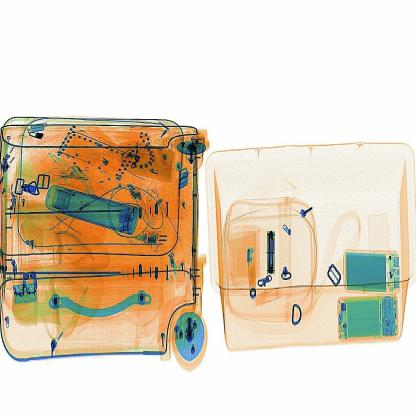scissors: (260, 223, 286, 276)
